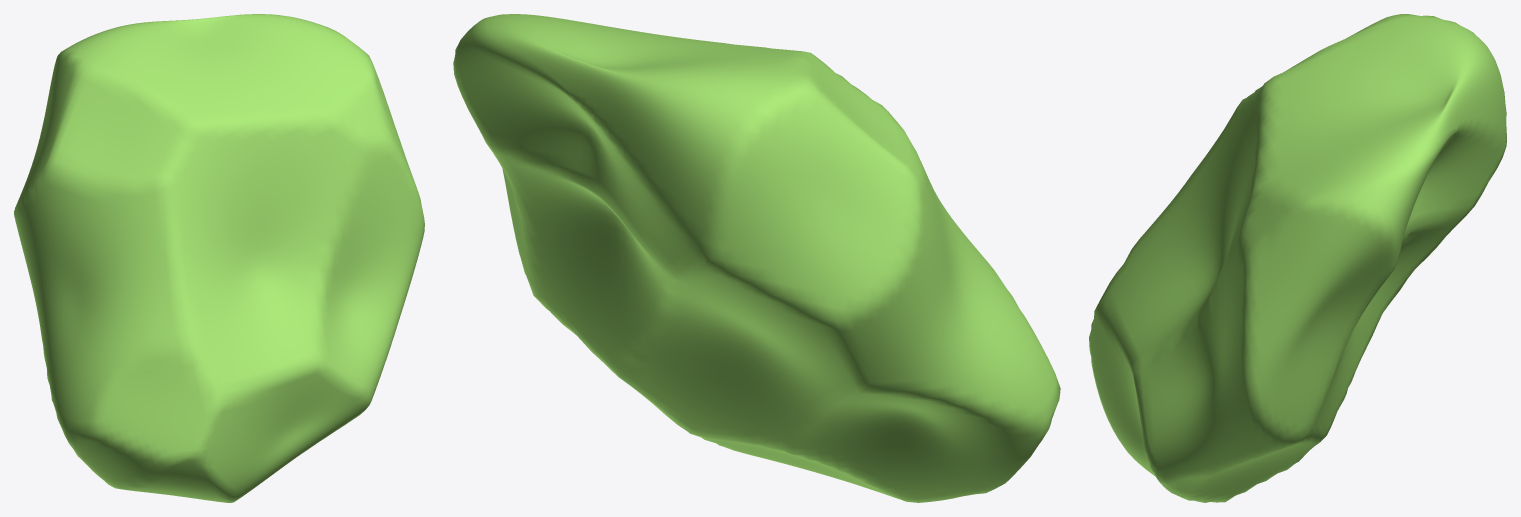
Rendered from Зеленый камень (1).fbx.
The picture shows the model from 3 angles, left to right: view 1: azimuth 30°, elevation 25°; view 2: azimuth 150°, elevation 25°; view 3: azimuth 270°, elevation 25°; orthographic projection. The views are drawn at different scales.
Visible parts, largest first — view 1: Cube; view 2: Cube; view 3: Cube.
Part boxes in pixels (bbox=[...]): Cube: bbox=[14, 14, 424, 502]; Cube: bbox=[453, 14, 1060, 502]; Cube: bbox=[1089, 14, 1506, 502].
Bounding box in the file's own units: 258 × 250 × 212.
